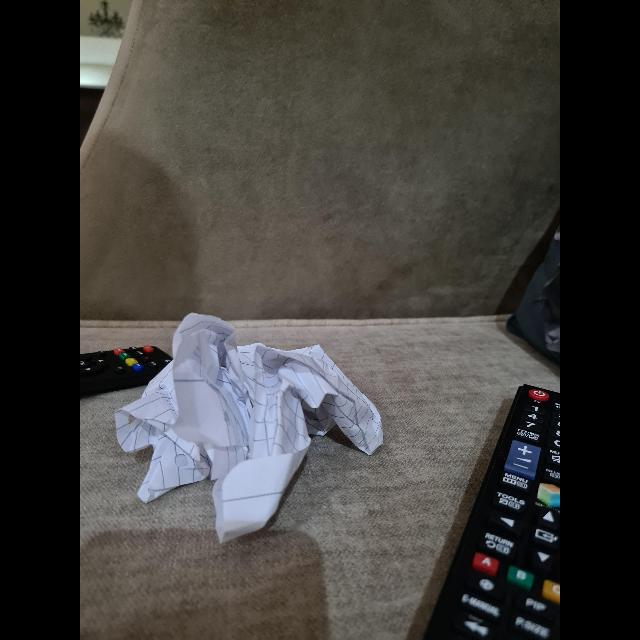scrap_paper: (130, 318, 396, 534)
